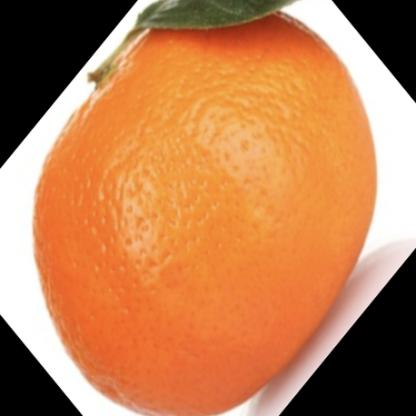fresh: (31, 2, 378, 416)
